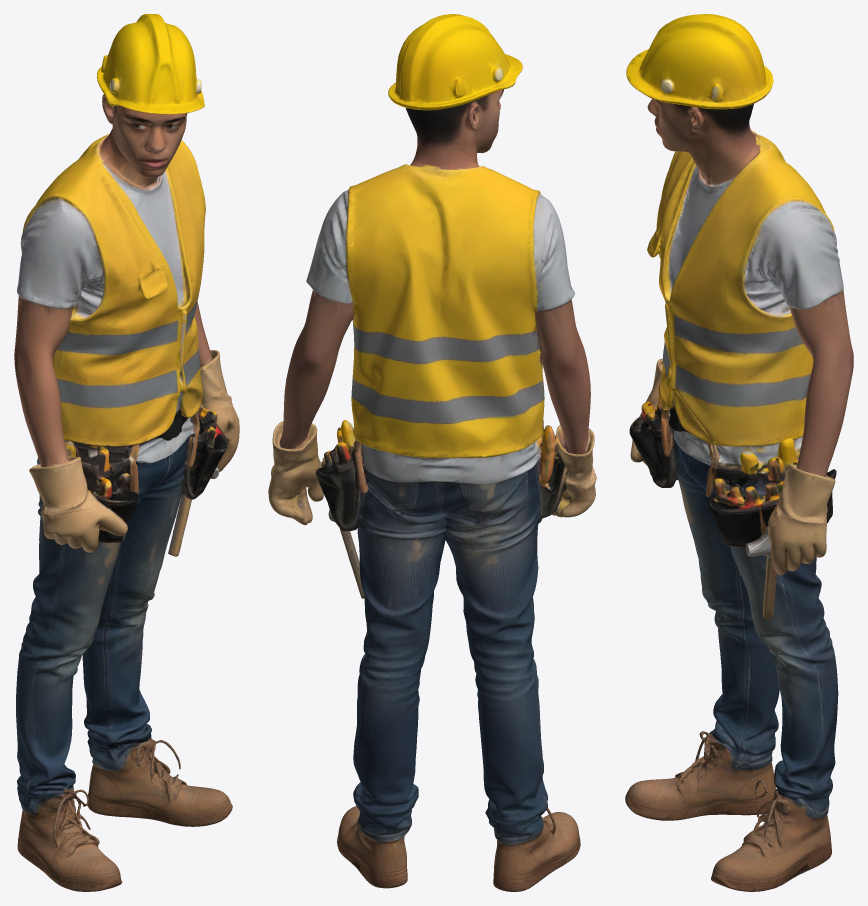
The model's file is trainee-worker.glb.
3 views of the same model, side by side, from view 1: azimuth 30°, elevation 25°; view 2: azimuth 150°, elevation 25°; view 3: azimuth 270°, elevation 25° (orthographic).
Visible parts, largest first — view 1: Object_5; view 2: Object_5; view 3: Object_5.
Part boxes in pixels (<box>): Object_5: <box>14,14,239,891</box>; Object_5: <box>268,14,596,891</box>; Object_5: <box>625,14,853,891</box>.
Size of the model in its own units: 0.627 by 1.9 by 0.4689.
Materials: 1 (1 with a texture image).
